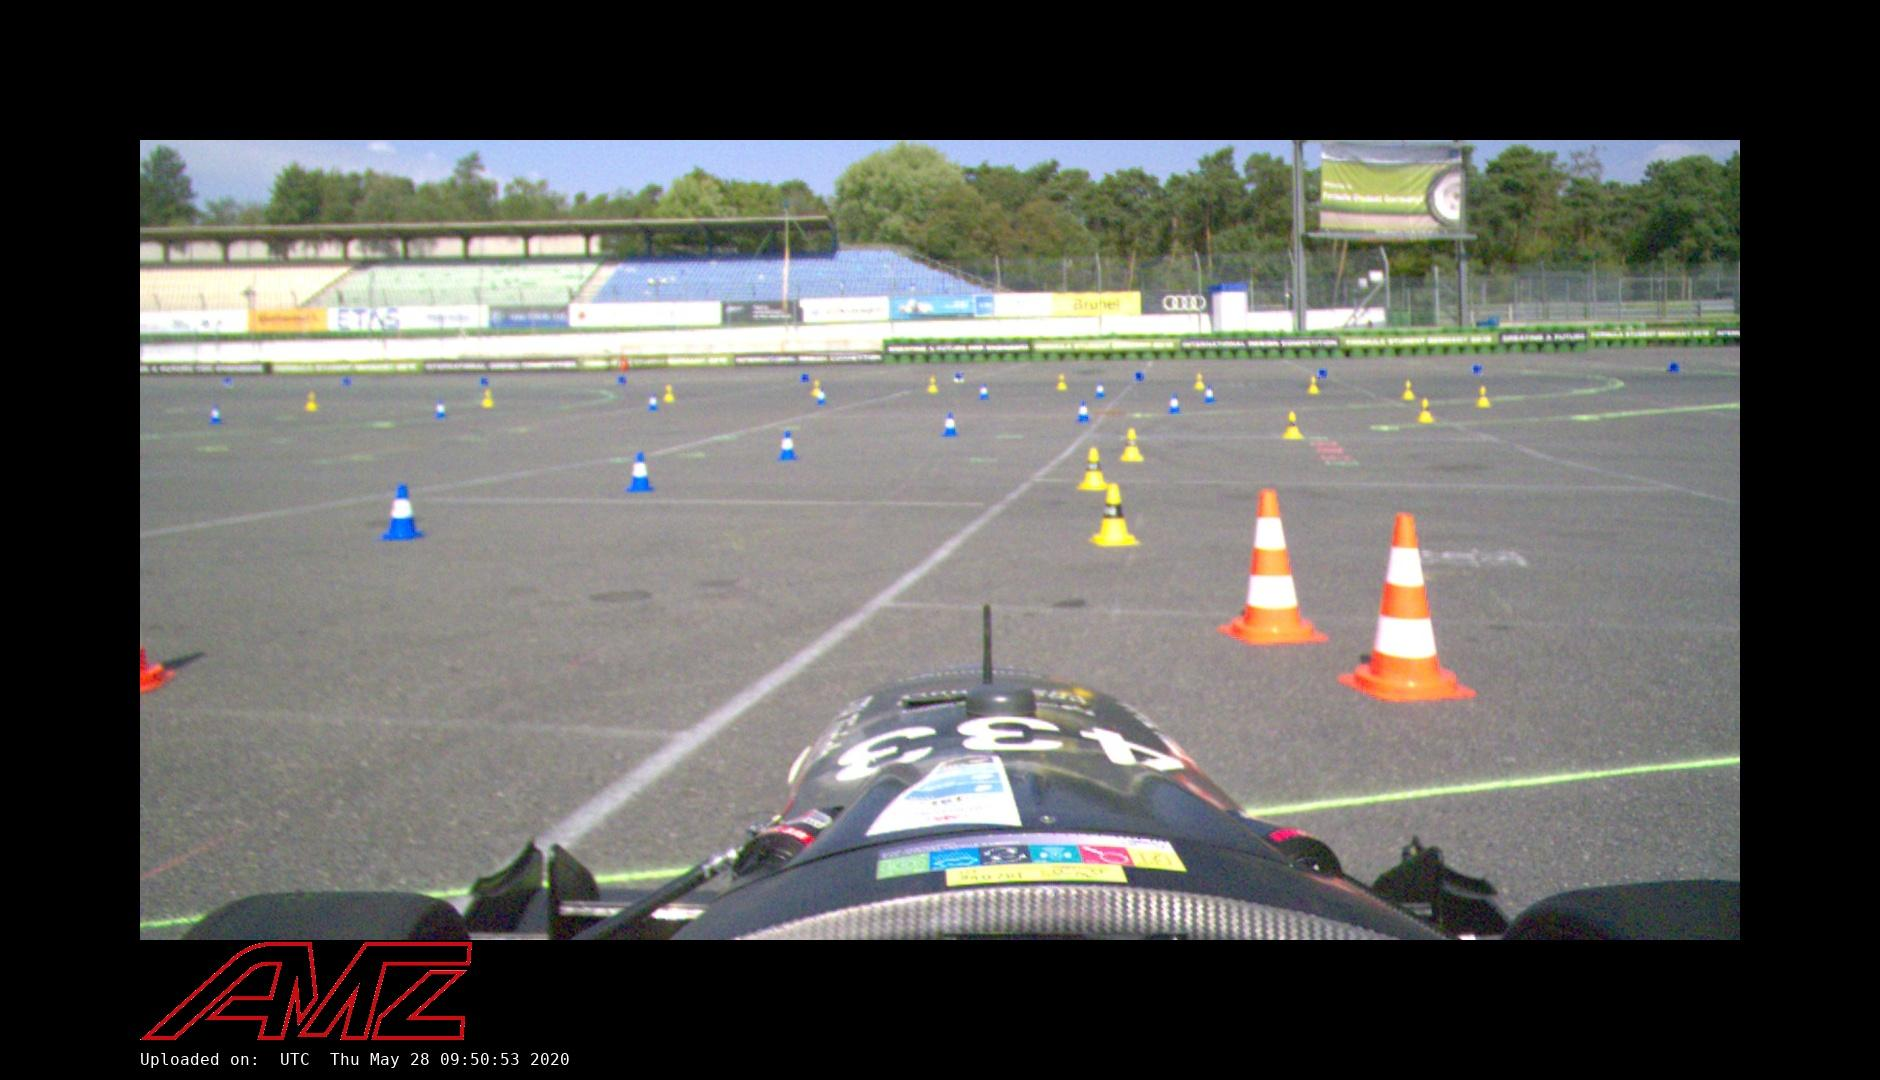blue_cone: (374, 481, 427, 540), (625, 451, 656, 493), (773, 429, 799, 462), (939, 411, 959, 439), (433, 397, 449, 419), (1166, 391, 1181, 415), (1076, 399, 1091, 422), (207, 403, 223, 424), (1203, 384, 1218, 403), (977, 381, 990, 400), (1094, 381, 1107, 399), (816, 388, 829, 406), (647, 391, 659, 411)
large_orange_cone: (1335, 512, 1477, 701), (1218, 486, 1330, 645)
yellow_cone: (1088, 481, 1143, 549), (1076, 446, 1110, 490), (1118, 428, 1147, 464), (1281, 410, 1304, 441), (1416, 398, 1436, 424), (1475, 385, 1493, 410), (1400, 379, 1416, 400), (303, 390, 319, 411), (480, 388, 495, 408), (1305, 375, 1320, 394), (662, 384, 675, 403), (1055, 373, 1068, 391), (1193, 373, 1206, 390), (811, 380, 822, 397), (927, 376, 937, 394)
